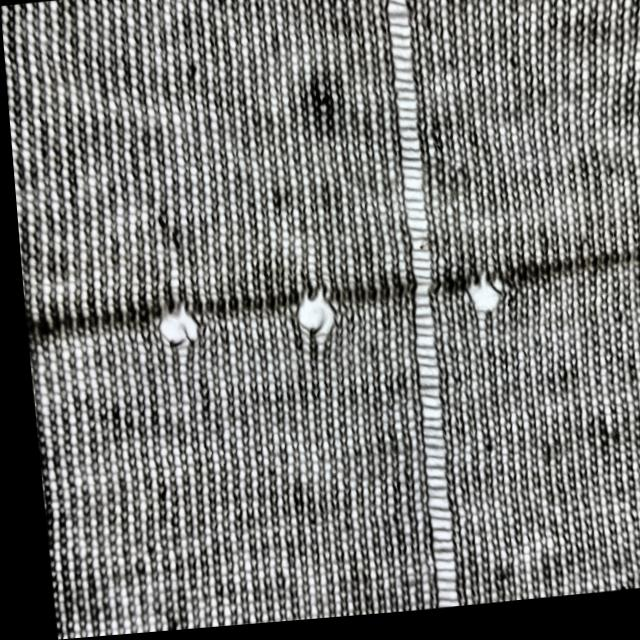Hole: (286, 79, 343, 149), (147, 297, 199, 367), (286, 285, 337, 355), (454, 273, 505, 333)
Stitch: (367, 0, 467, 615)
